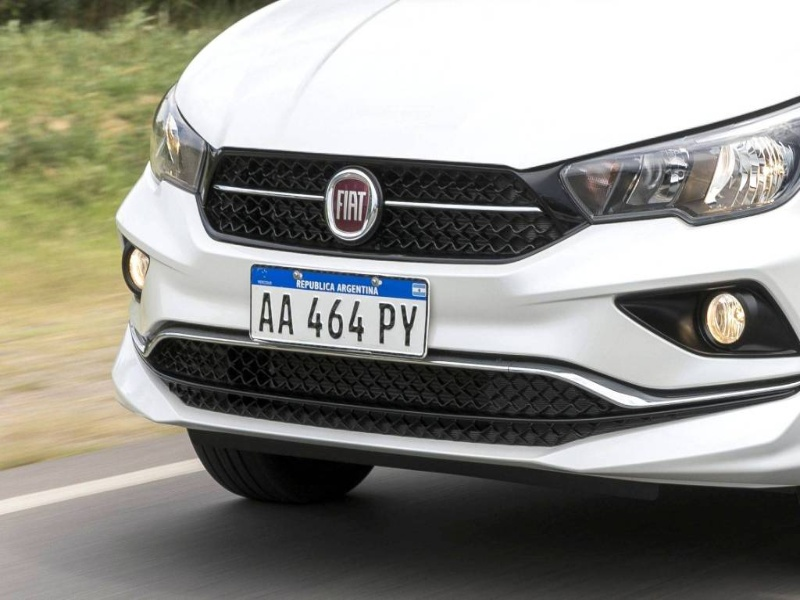placa: (246, 260, 434, 363)
